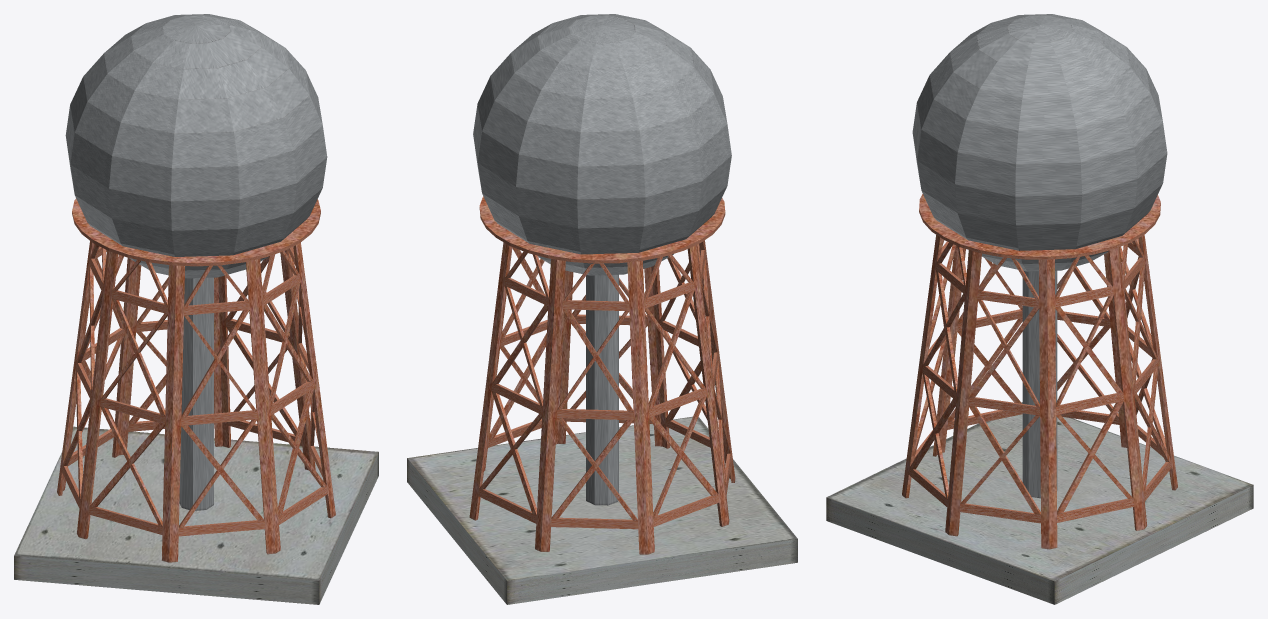
Rendered from GMLID_1381455_184173_656.dae.
The picture shows the model from 3 angles, left to right: view 1: azimuth 30°, elevation 25°; view 2: azimuth 150°, elevation 25°; view 3: azimuth 270°, elevation 25°; orthographic projection. The views are drawn at different scales.
Bounding box in the file's own units: 14.81 × 14.81 × 18.72.
Materials: 1 (1 with a texture image).
